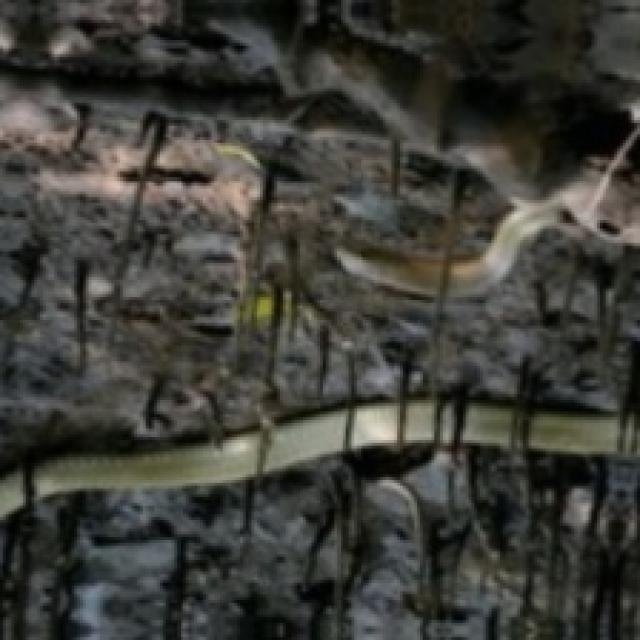king cobra: (36, 434, 260, 497), (449, 194, 569, 297), (334, 251, 439, 301), (266, 408, 345, 471), (533, 412, 616, 453), (465, 402, 512, 446), (354, 401, 395, 447), (406, 398, 431, 442), (0, 471, 22, 517)
